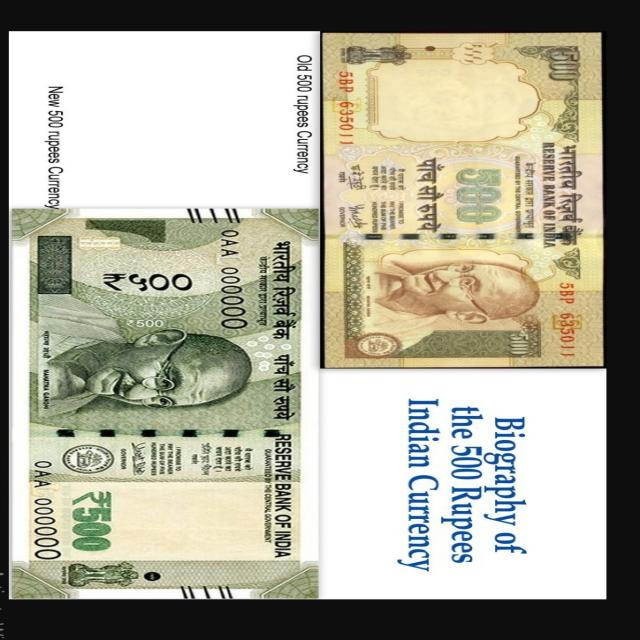500IndianRupees: (8, 207, 318, 598)
